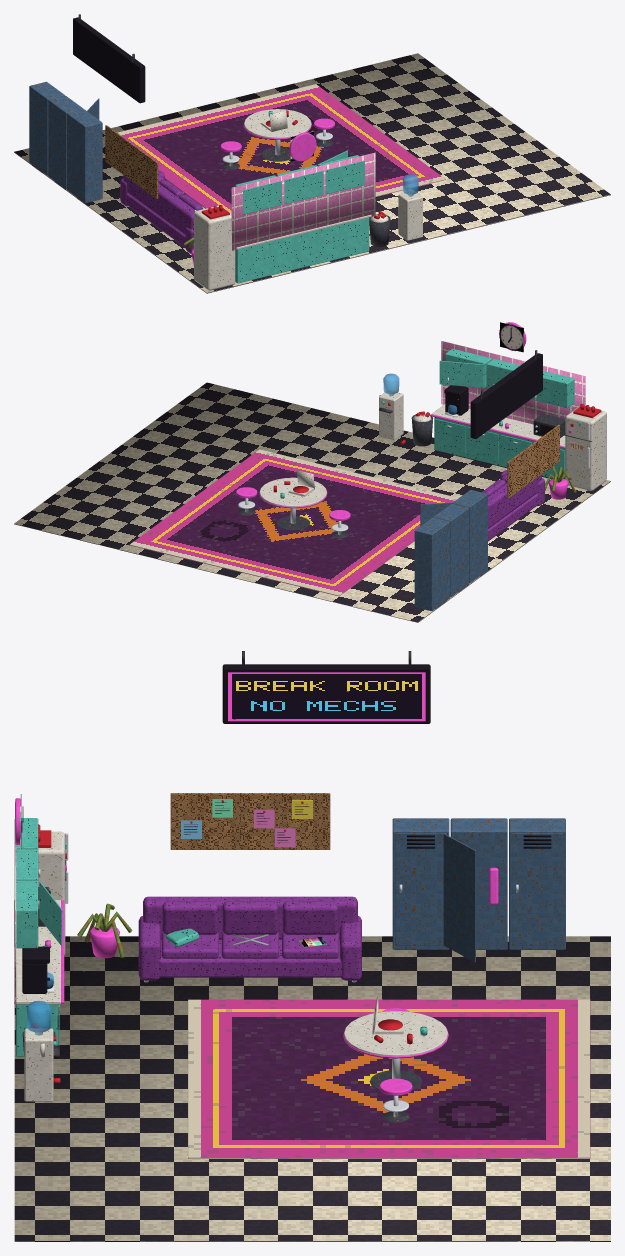
File: x_lobby_breakroom.glb
3 renders of one model, top to bottom at view 1: azimuth 30°, elevation 25°; view 2: azimuth 150°, elevation 25°; view 3: azimuth 270°, elevation 25°, orthographic. The views are drawn at different scales.
Visible parts, largest first — view 1: breakroom; view 2: breakroom, door; view 3: breakroom, door.
Boxes of the visible parts, x1,y1,x2,y2 form: breakroom: (14, 14, 610, 293); breakroom: (14, 322, 610, 622); door: (439, 360, 483, 387); breakroom: (14, 651, 610, 1241); door: (39, 881, 62, 945).
Bounding box in the file's own units: 10.4 × 4.55 × 8.61.
18 materials, 14 textured.
